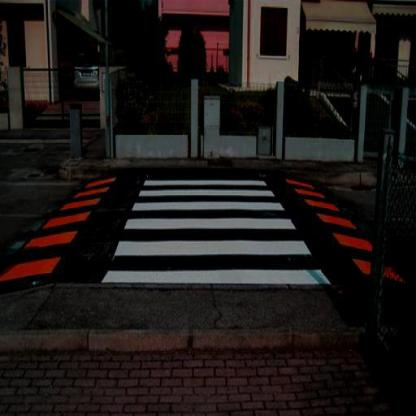crosswalk: (111, 215, 316, 262), (136, 175, 280, 200)
